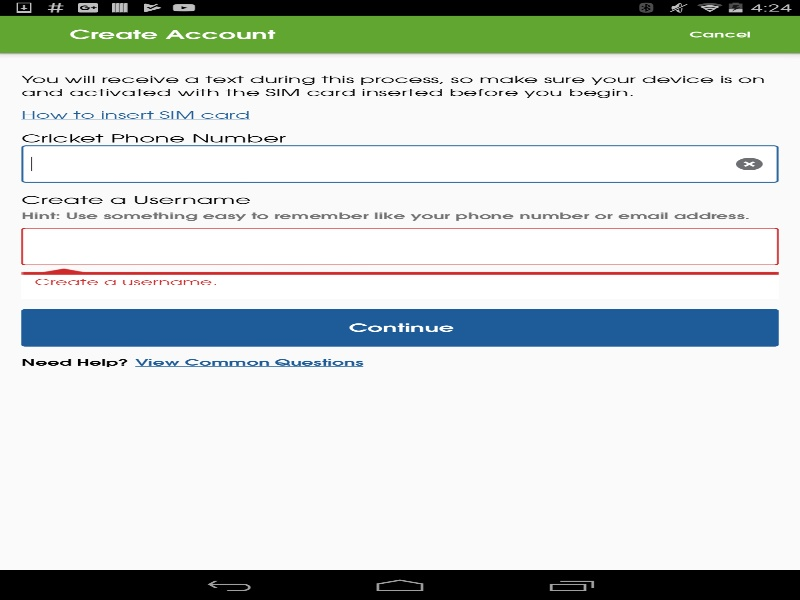Button: (21, 309, 778, 346)
Input: (21, 227, 778, 265), (21, 145, 729, 182)
